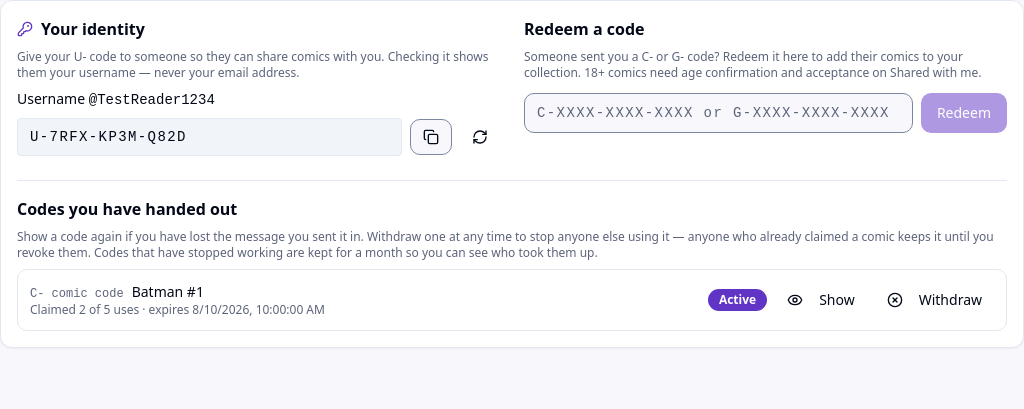
Test: reading a handed-out code back › shows it when it is
Click the button with aria-label "show the code for Batman #1": (821, 300) [775,282,867,318]
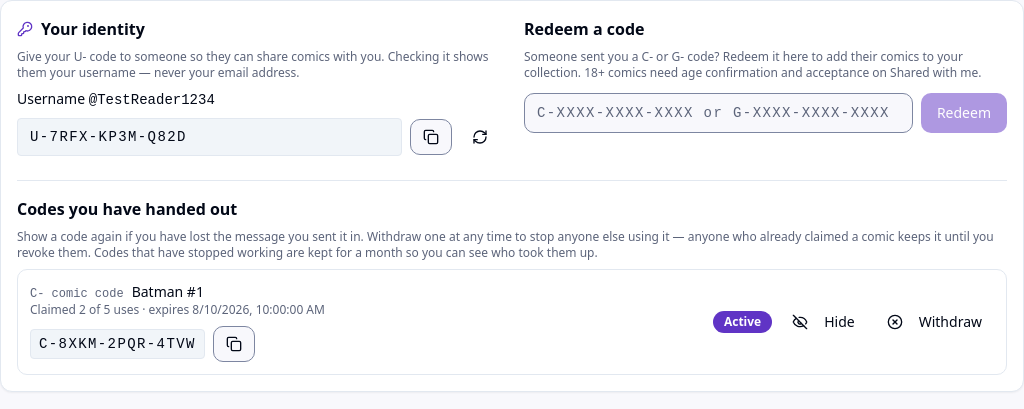
Check: the text "C-8XKM-2PQR-4TVW" is shown, box [30,329,205,359]
